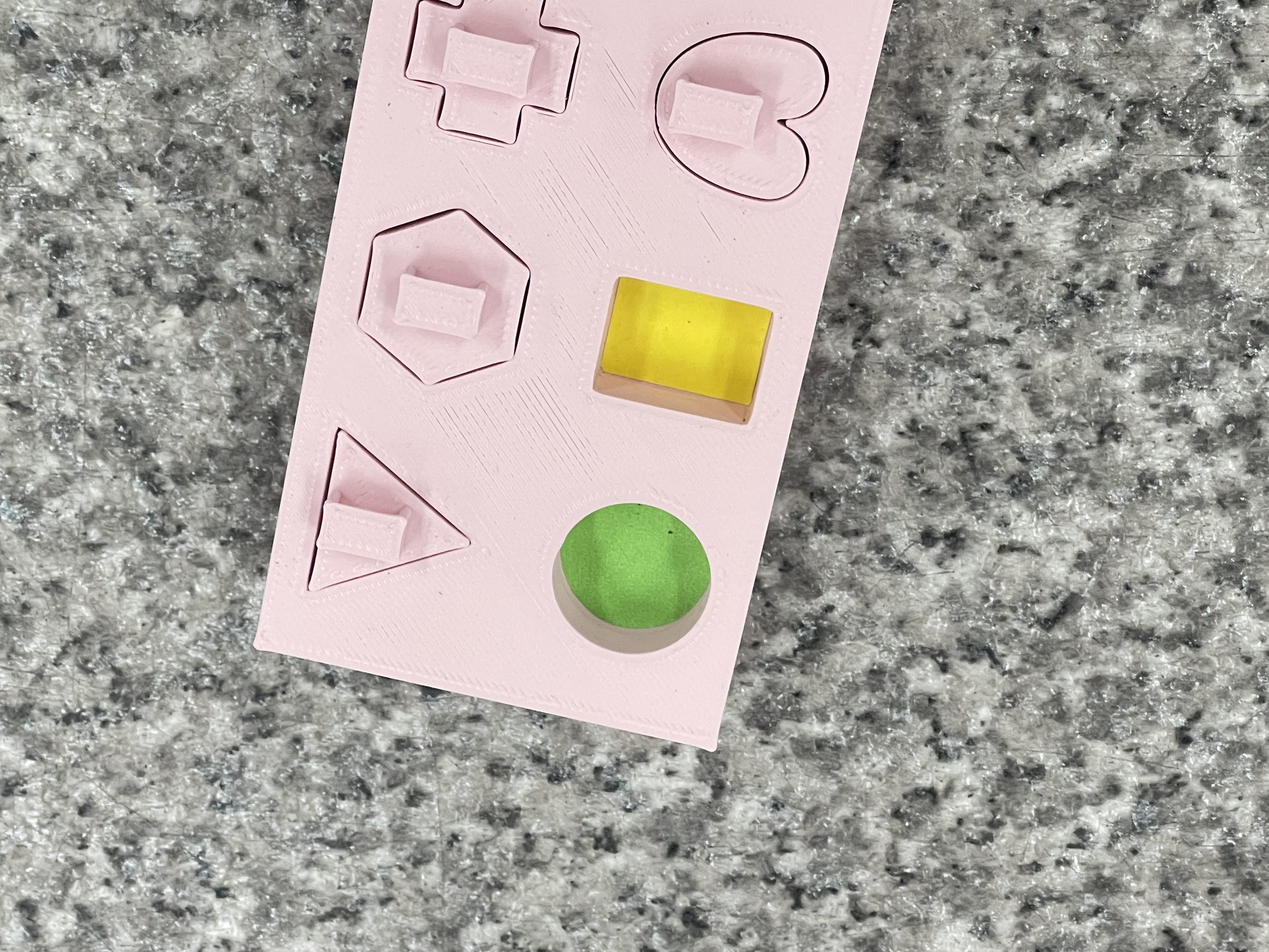unsolved: (206, 0, 903, 764)
